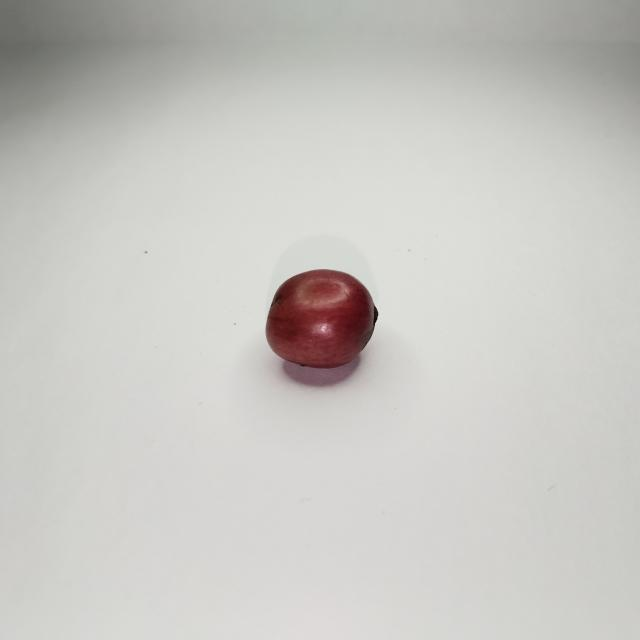Sano: (266, 269, 378, 370)
